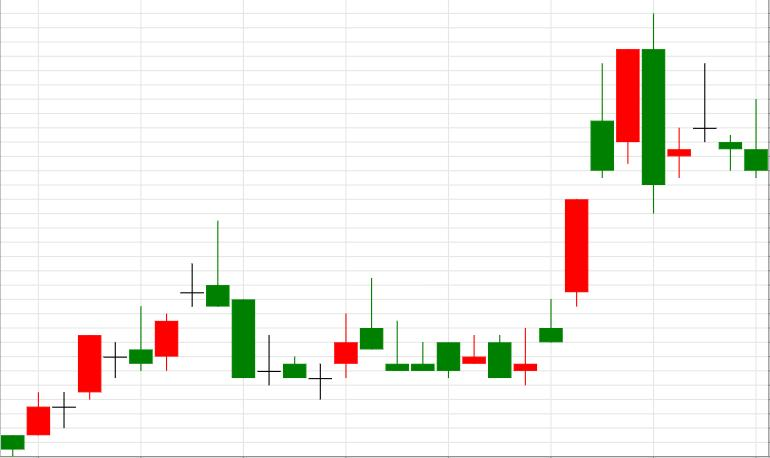bearish_engulfing_fall: (514, 13, 665, 386)
morning_star_rise: (181, 219, 358, 399)
shooting_star_fall: (26, 220, 229, 435)
